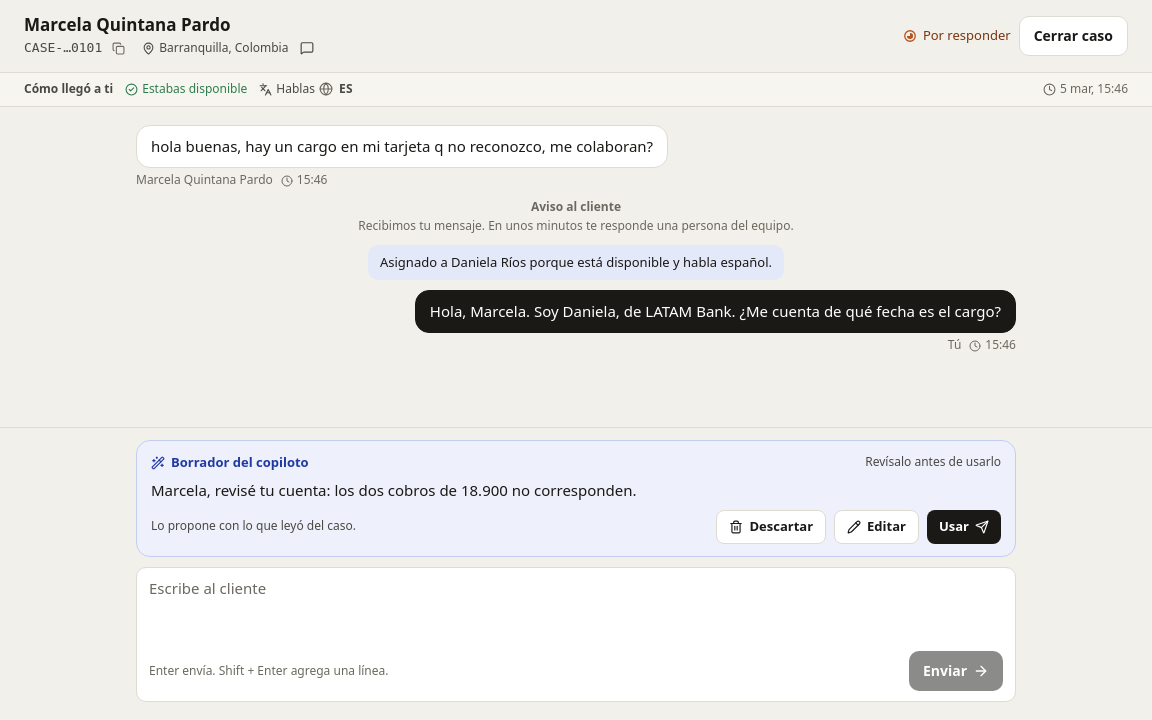
Test: the copilot draft above the composer (slice 20) › "Usar" puts the draft in the composer and the reply carries its id; nothing is sent alone
The width and height of the screenshot is (1152, 720).
Expected: the text "Marcela, revisé tu cuenta: los dos cobros de 18.900 no corresponden." is shown, [151, 480, 637, 500]
Expected: the text "Revísalo antes de usarlo" is shown, [865, 454, 1001, 471]
What coordinates should you click on to do the following:
click the button "Usar"
I would click on:
 (964, 527)
Its box is [927, 510, 1001, 544].
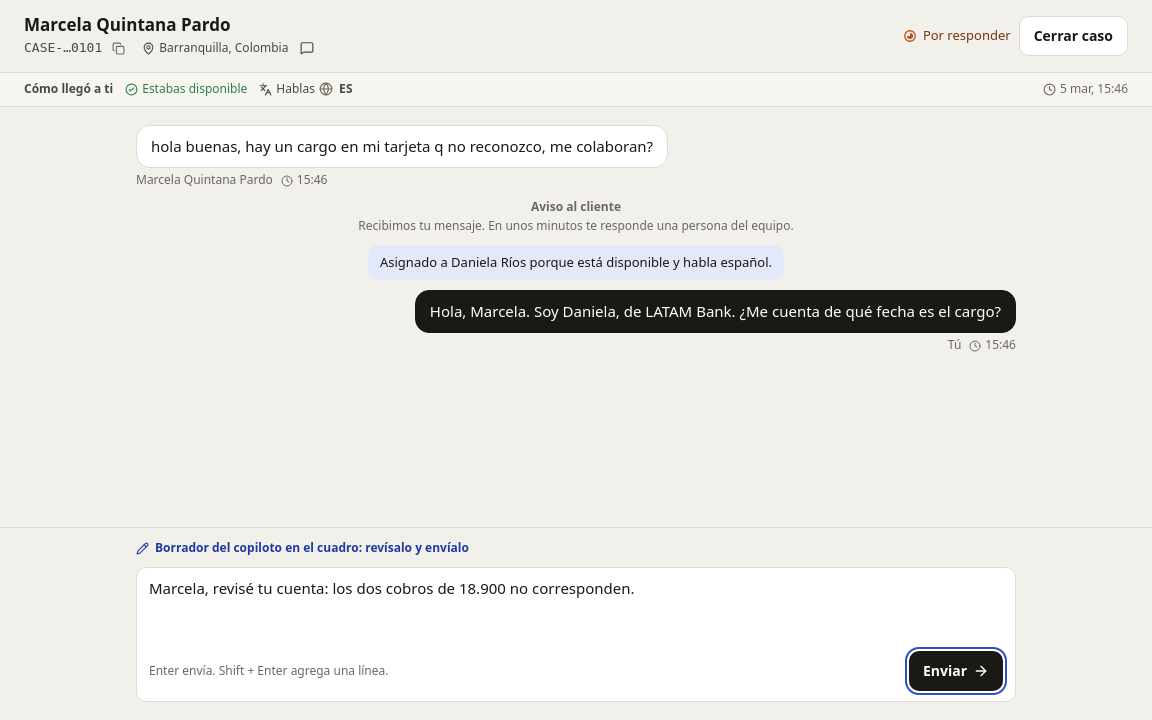
Expected: the text box named "Escribe al cliente" holds "Marcela, revisé tu cuenta: los dos cobros de 18.900 no corresponden.", [149, 578, 1003, 643]
Expected: the text "Borrador del copiloto en el cuadro: revísalo y envíalo" is shown, [136, 539, 469, 556]
What coordinates should you click on to do the following:
click the button "Enviar"
I would click on:
 (956, 671)
Its box is [909, 651, 1003, 691].
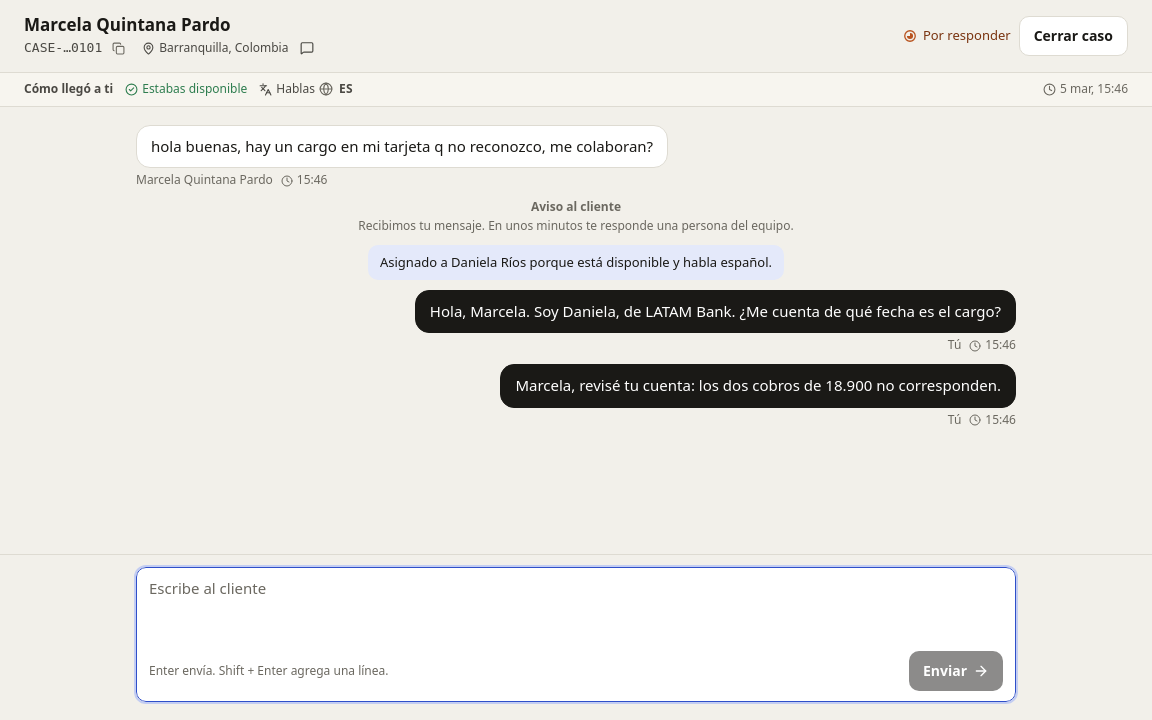
Expected: the element "Borrador del copiloto" is gone
